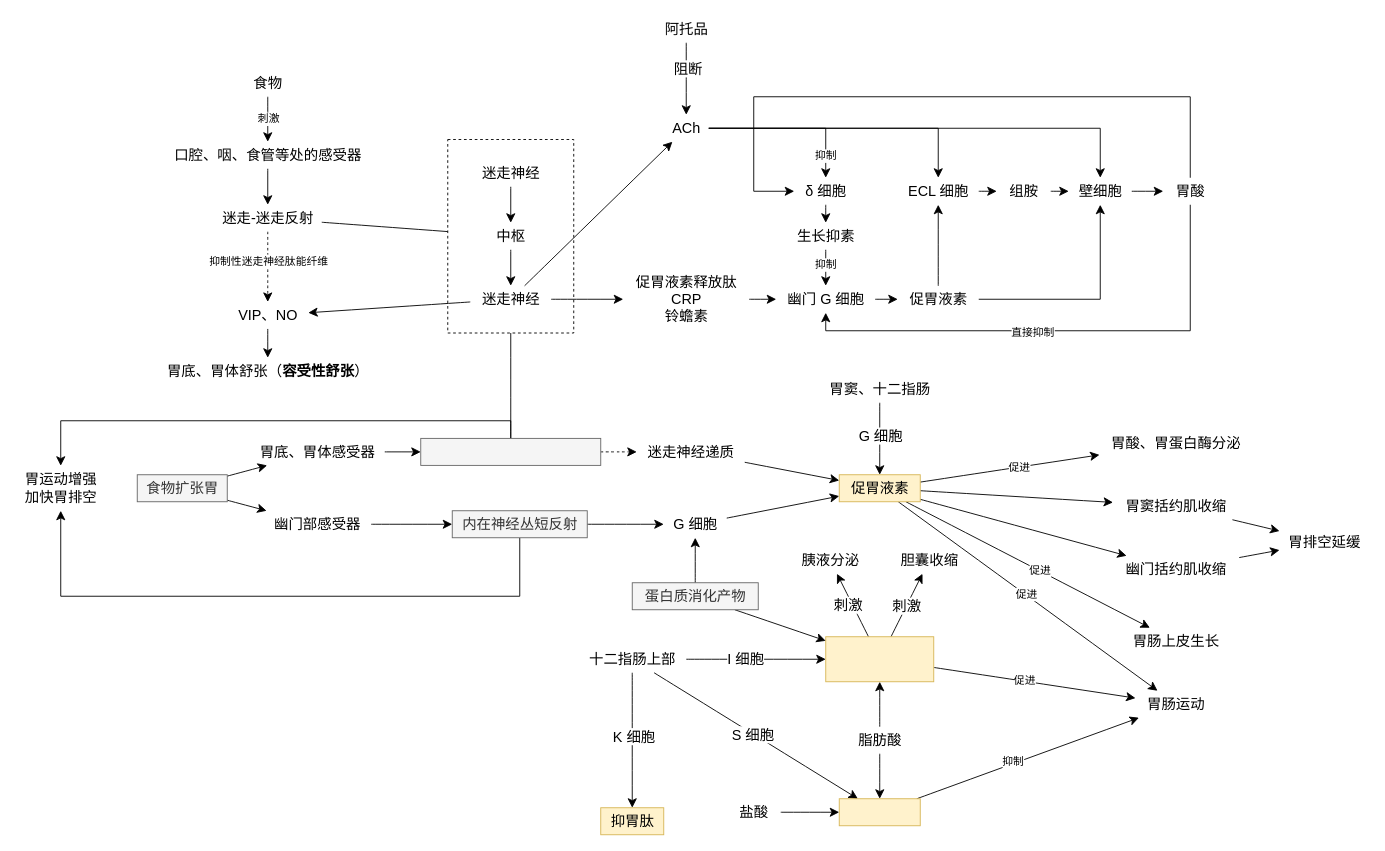
The diagram is 1385 pixels wide and 851 high, and some of its shapes have lost their labels. The shapes that lost their labels are listed below. From the top down, each one's centre as x and y in pixels, then its label:
At pixel 510 451: "迷走-迷走反射（长反射）".
At pixel 879 659: "缩胆囊素 （促胰酶素）".
At pixel 879 812: "促胰液素".
